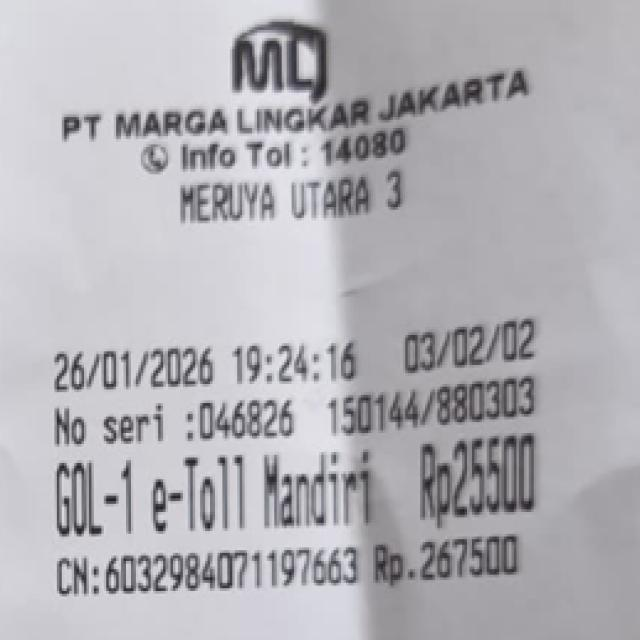date: (44, 344, 369, 383)
store: (60, 39, 541, 140)
total: (411, 436, 555, 526)
